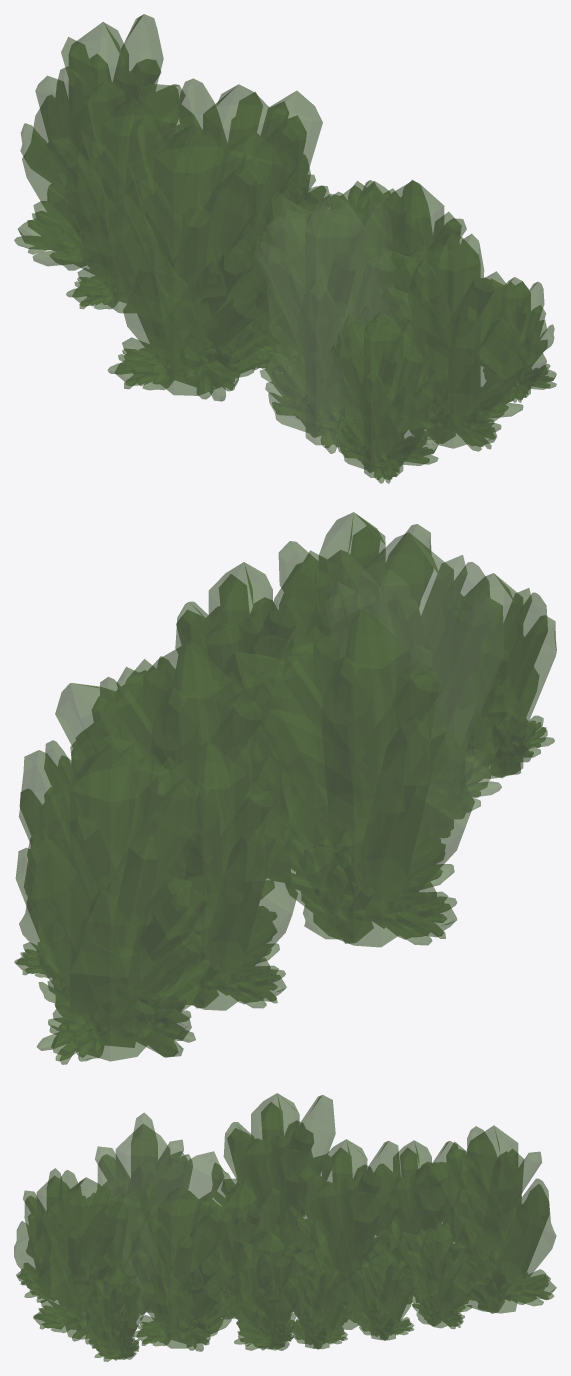
Rendered from CrystalClusterGreen.glb.
3 views of the same model, one above another, from view 1: azimuth 30°, elevation 25°; view 2: azimuth 150°, elevation 25°; view 3: azimuth 270°, elevation 25° (orthographic). The views are drawn at different scales.
Parts seen in each view (by area): view 1: Cube.016; view 2: Cube.016; view 3: Cube.016.
Part boxes in pixels (x1,y1,x2,y2): Cube.016: (14,14,556,483); Cube.016: (14,512,556,1064); Cube.016: (14,1093,556,1361).
Bounding box in the file's own units: 3.97 × 3.04 × 7.61.
